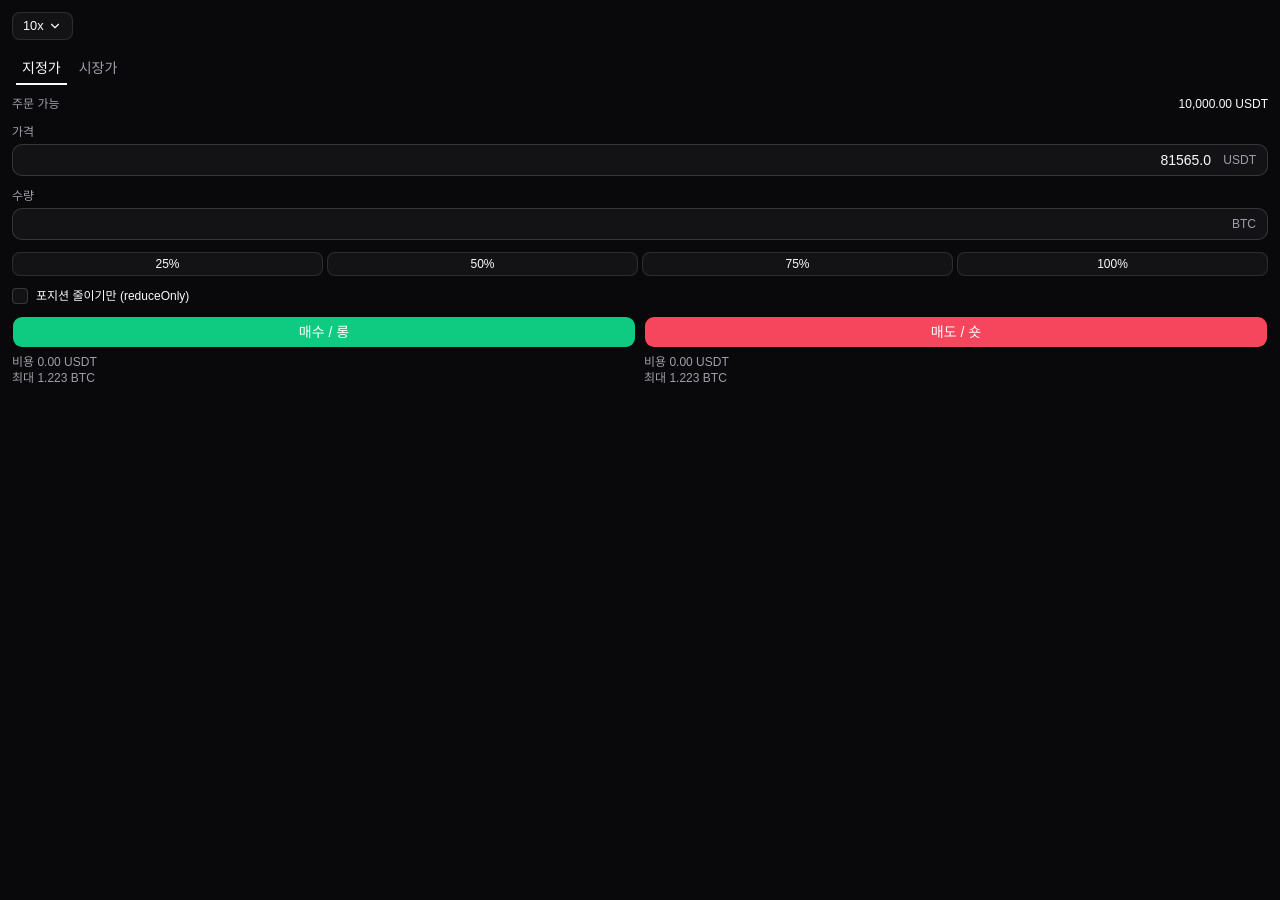
Test case: OrderForm › 시장가 매수는 가격 없이 보내고, 체결을 알린 뒤 수량을 비운다
Click the tab "시장가" at (98, 68), box 72,56 -> 124,80
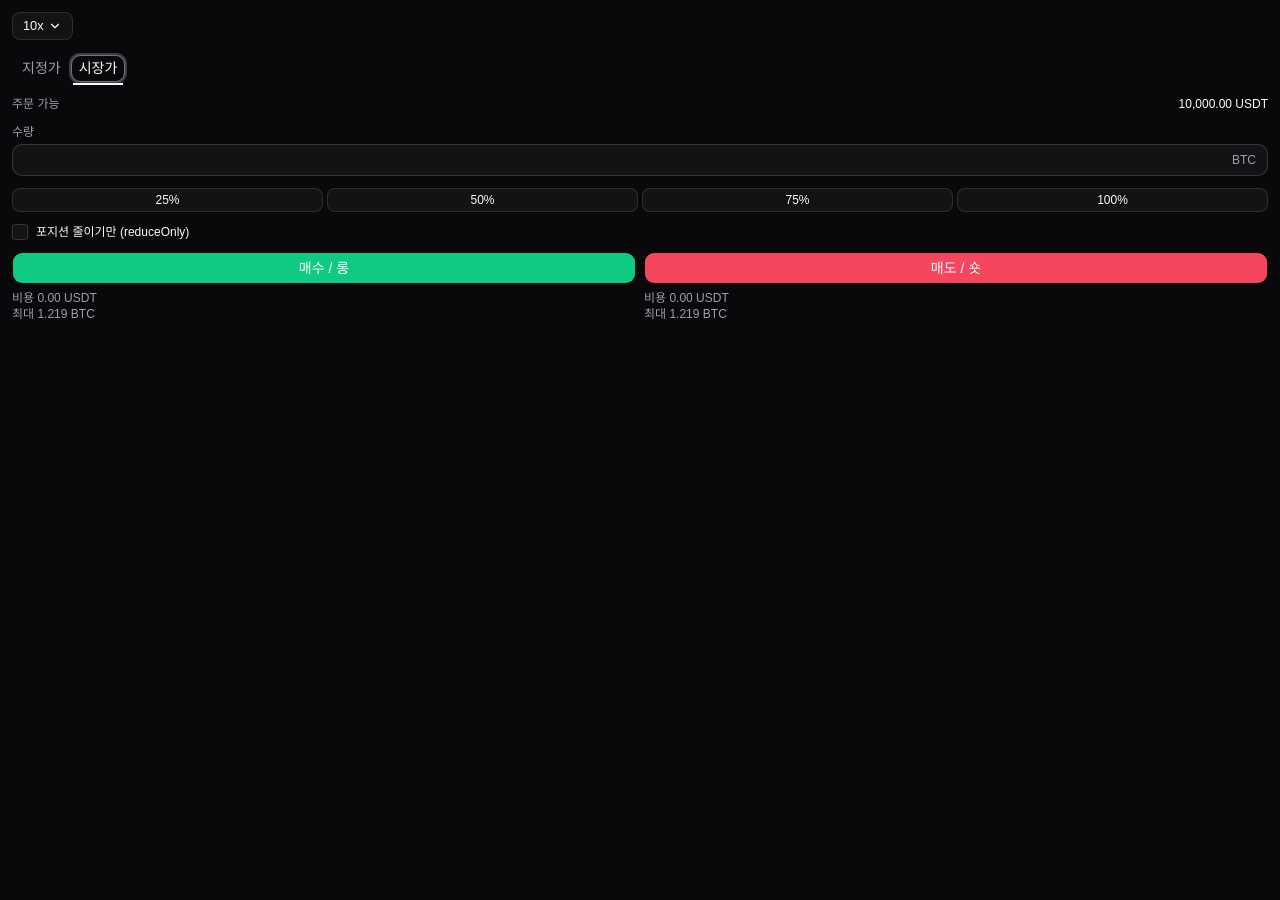
Type "0.01" into the field labelled "수량" at (640, 160), box 12,144 -> 1268,176
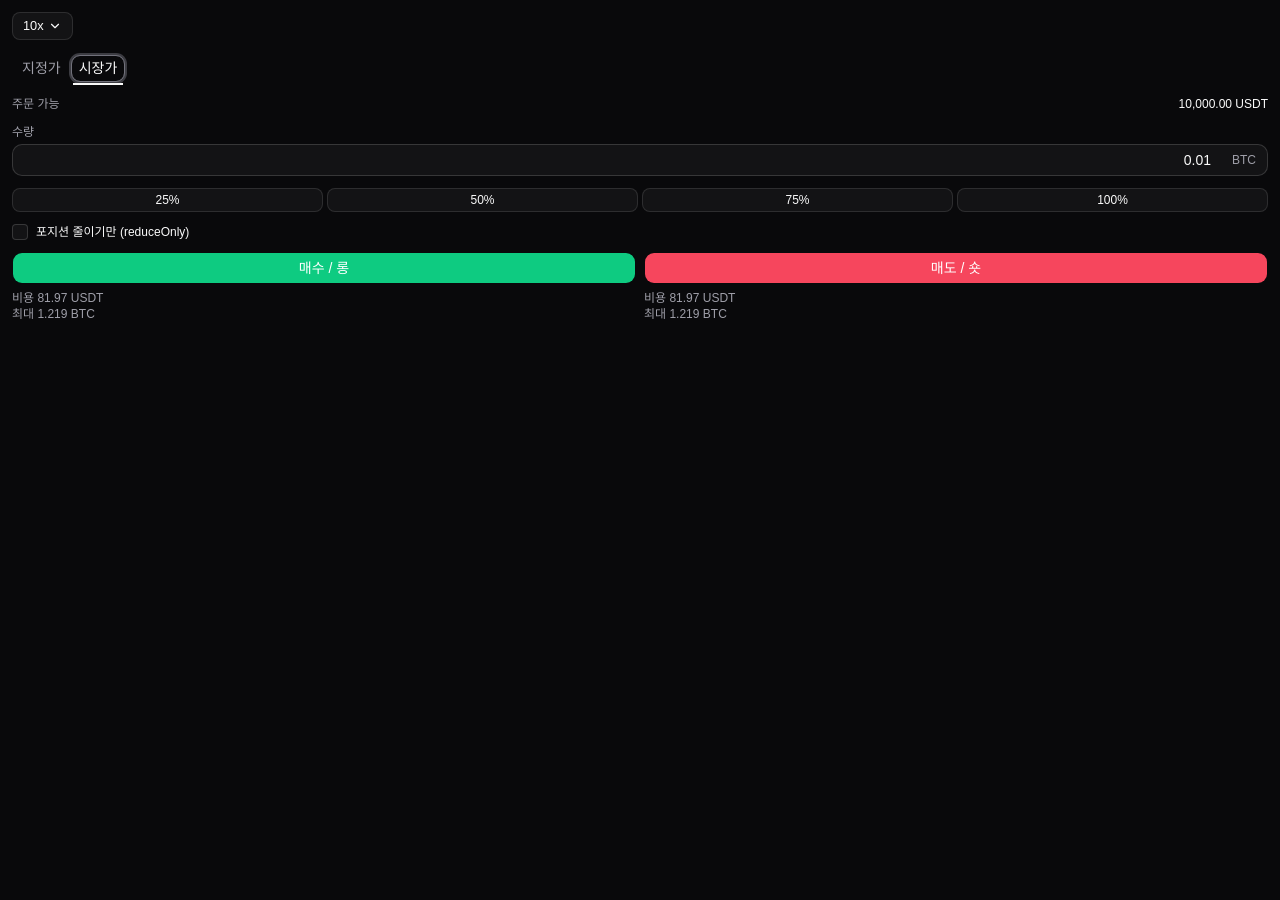
Click the button "매수 / 롱" at (324, 268), box 12,252 -> 636,284
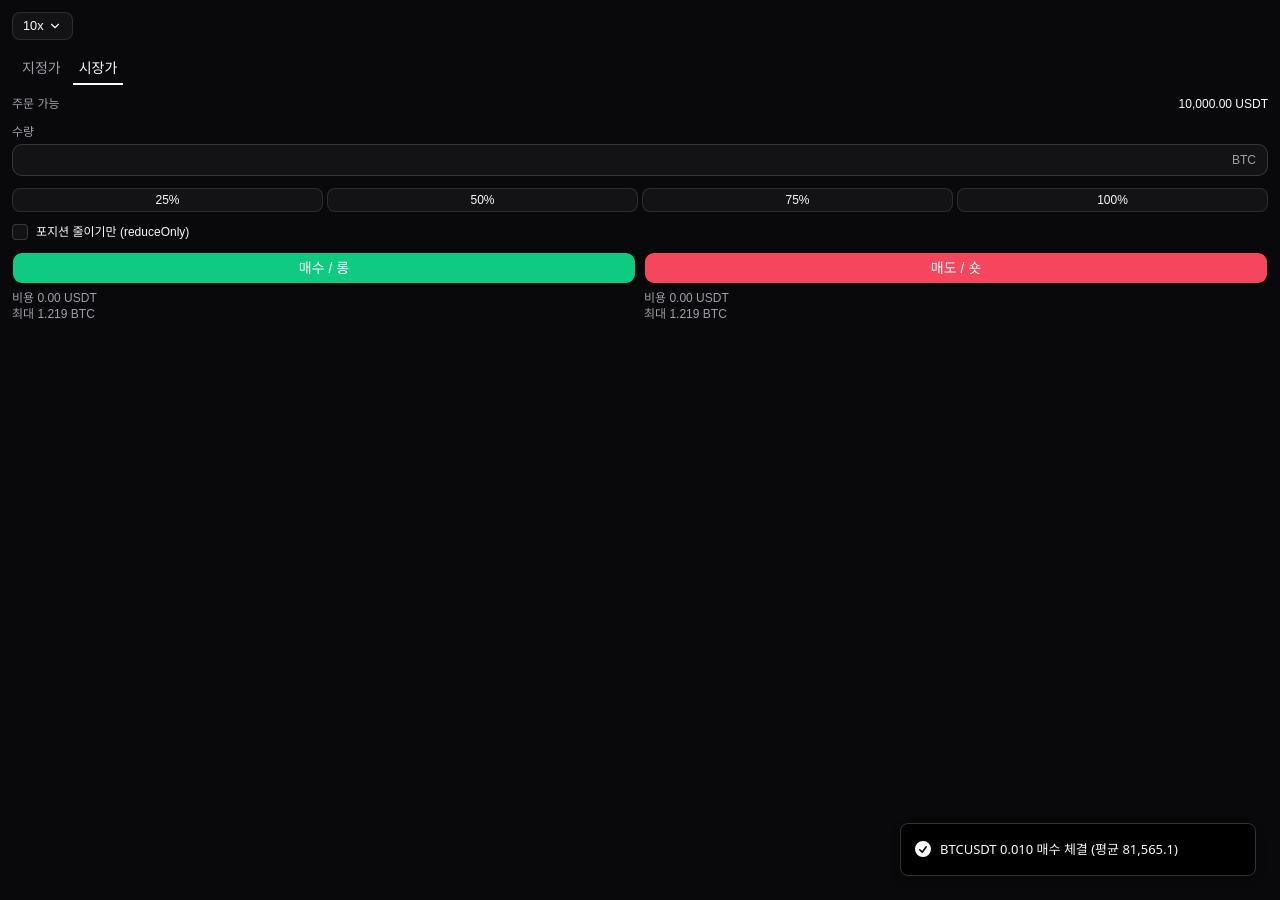
Check: the text "BTCUSDT 0.010 매수 체결 (평균 81,565.1)" is shown, box 940,840 -> 1178,859
Check: the field labelled "수량" is empty, box 12,144 -> 1268,176
